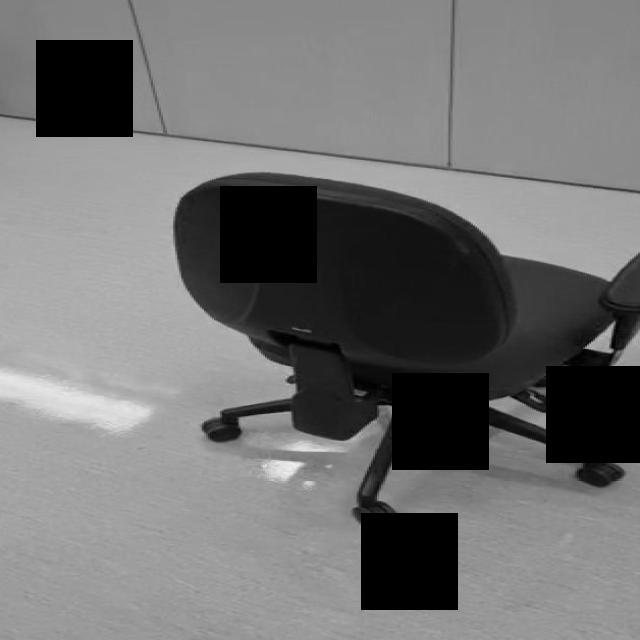chair: (173, 171, 640, 529)
